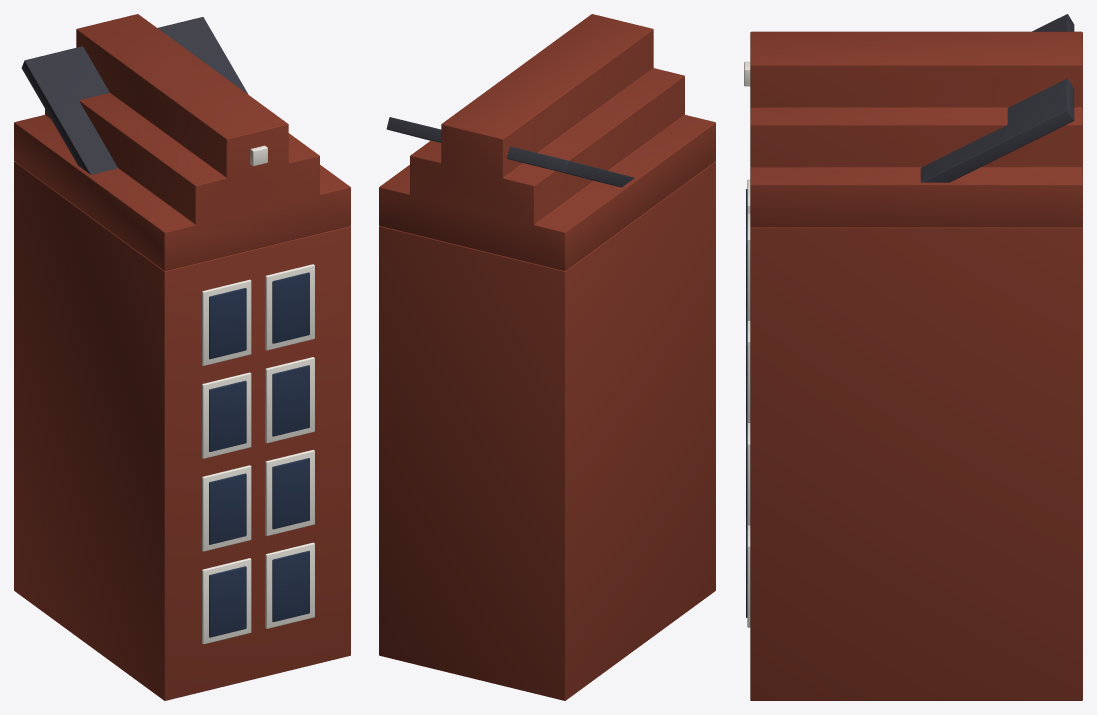
Rendered from rg_holanda_1.glb.
3 renders of one model, left to right at view 1: azimuth 30°, elevation 25°; view 2: azimuth 150°, elevation 25°; view 3: azimuth 270°, elevation 25°, orthographic. The views are drawn at different scales.
Parts seen in each view (by area): view 1: rg_holanda_1; view 2: rg_holanda_1; view 3: rg_holanda_1.
Boxes of the visible parts, x1,y1,x2,y2 form: rg_holanda_1: (14, 14, 350, 700); rg_holanda_1: (379, 14, 715, 700); rg_holanda_1: (744, 14, 1082, 700).
Bounding box in the file's own units: 5 × 14 × 7.13.
